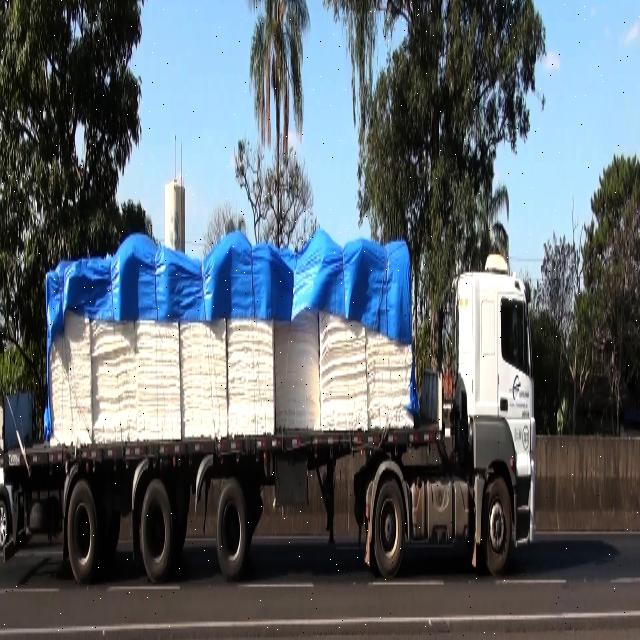-axle: (479, 471, 518, 580), (66, 476, 101, 589), (373, 481, 407, 581), (217, 473, 250, 575), (140, 476, 170, 583)
